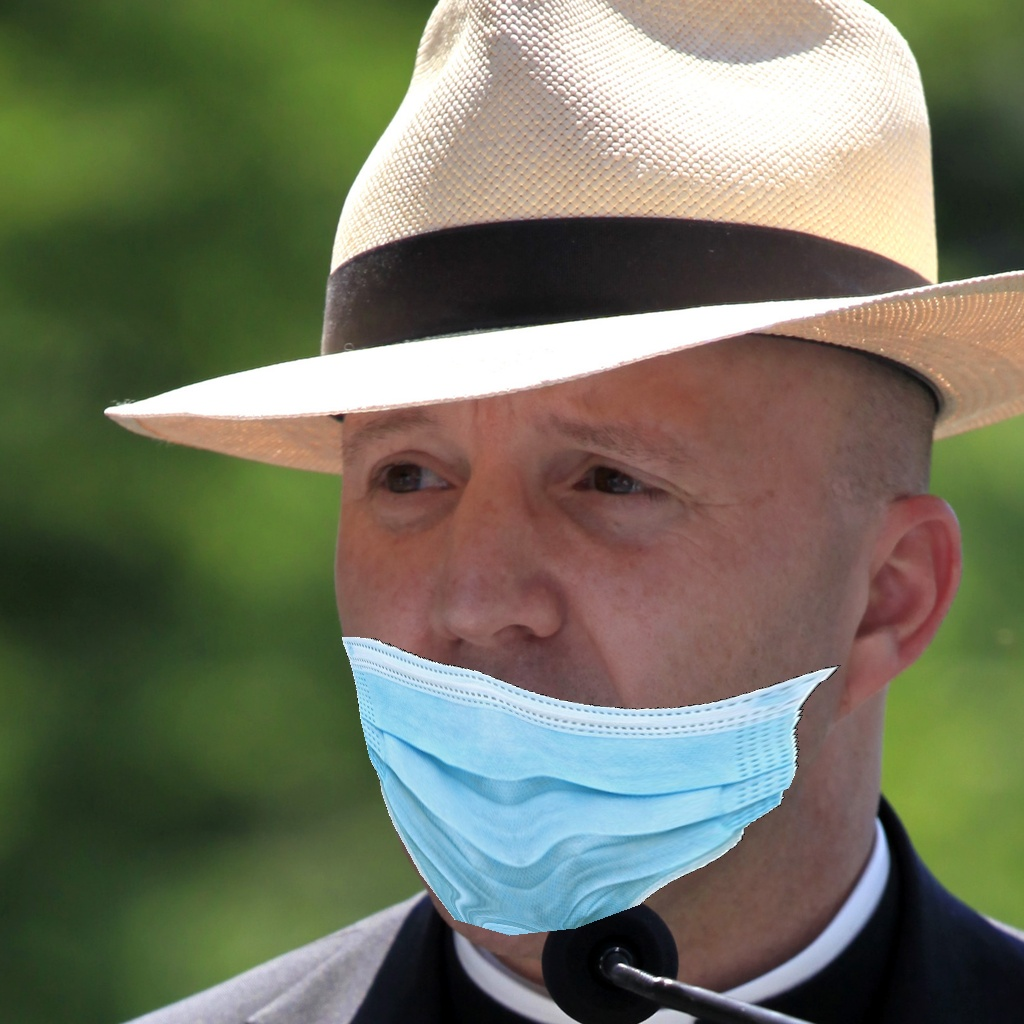mascarilla_mal_puesta: (249, 425, 907, 935)
